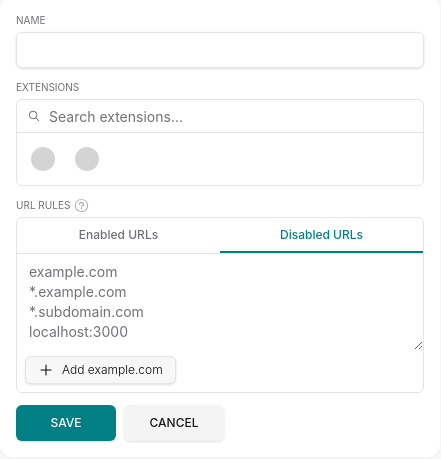
Test: GroupRules › selects an extension from the picker without crashing
Expected: the button "Save" is shown, x1=16 y1=405 x2=116 y2=441
Step 1. Click the button named "Ext One, not selected" → (43, 159), box x1=25 y1=141 x2=61 y2=177
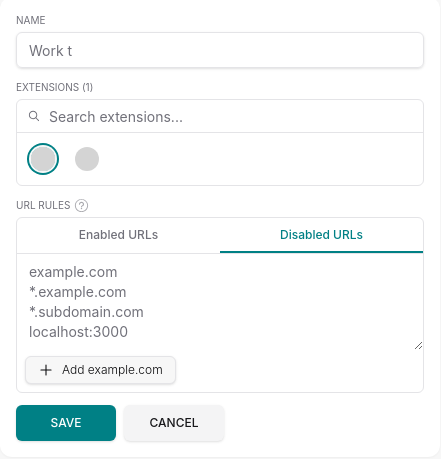
Now the text "Extensions (1)" is shown, box x1=16 y1=81 x2=93 y2=93
Now the button named "Ext One, selected" is shown, box x1=25 y1=141 x2=61 y2=177
